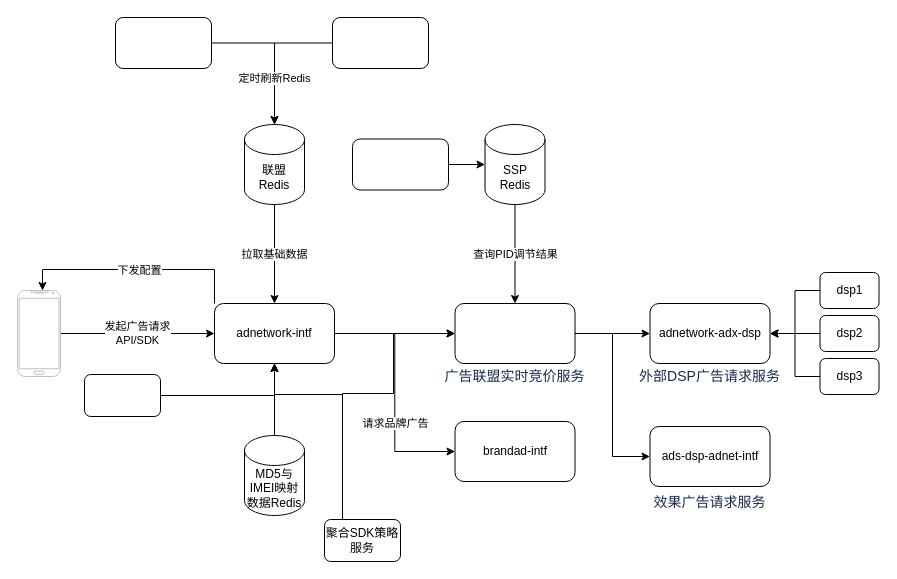
The diagram is 897 pixels wide and 579 high, and some of its shapes have lost their labels. Each missing label, with the centre of its shape:
adnetwork-task: point 163,42
adx-intf-adnetwork: point 514,333
pid-task: point 400,164
ssp-statistics: point 380,42
风控服务: point 122,395
